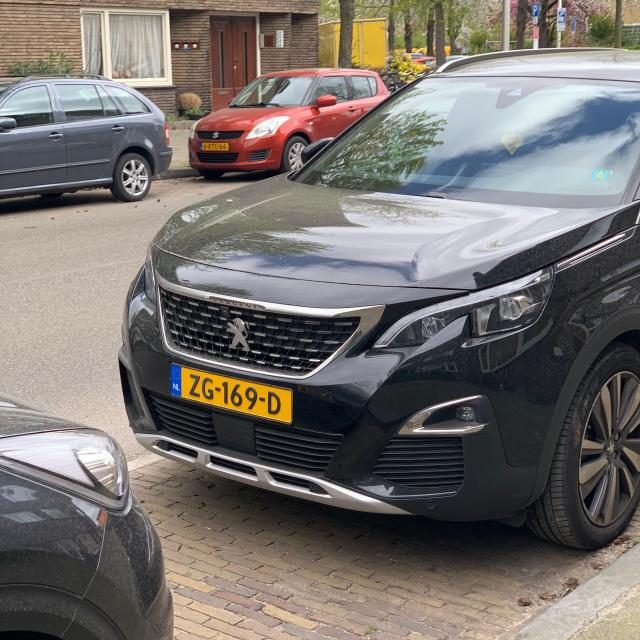plate: (168, 361, 294, 425)
